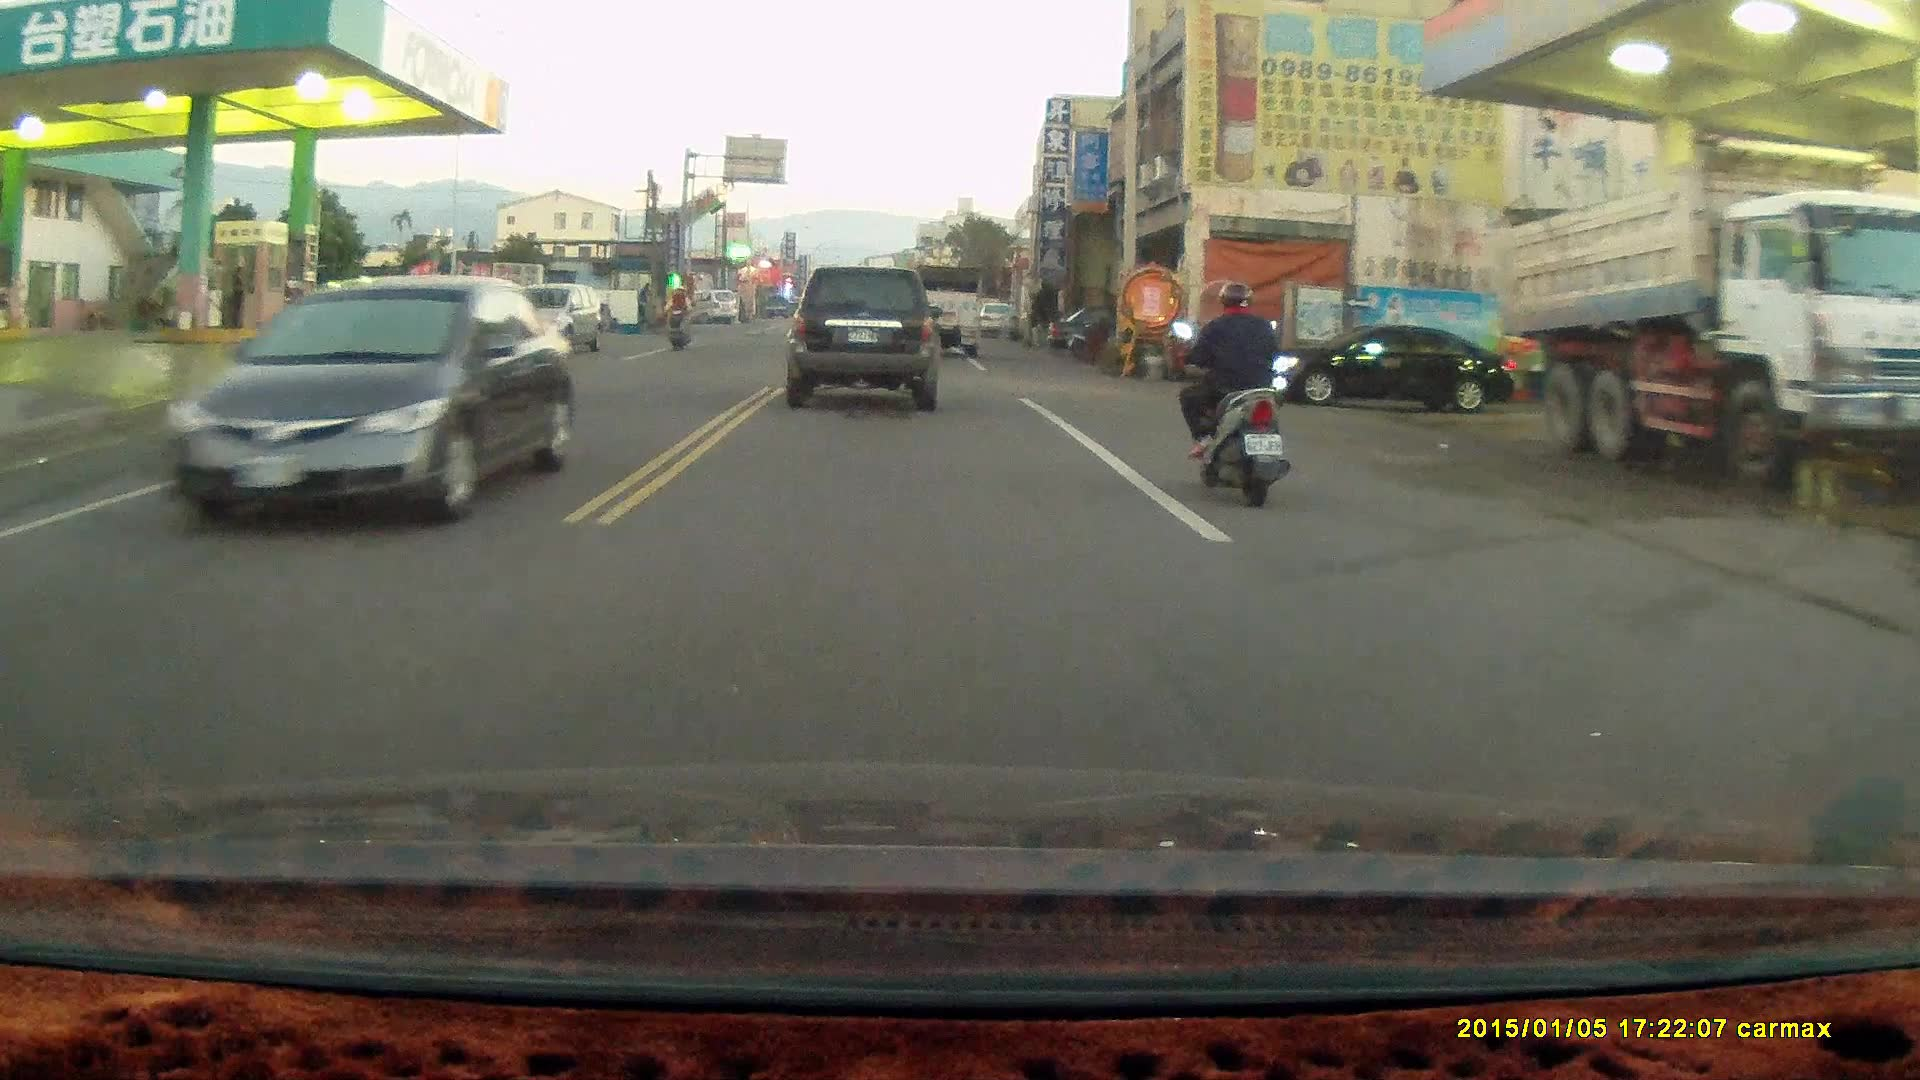rider: (1170, 275, 1291, 509), (659, 283, 690, 352)
vehicle: (1494, 135, 1919, 481), (171, 275, 577, 537), (788, 264, 942, 414), (1282, 324, 1518, 415), (488, 278, 603, 363), (908, 265, 984, 357)
